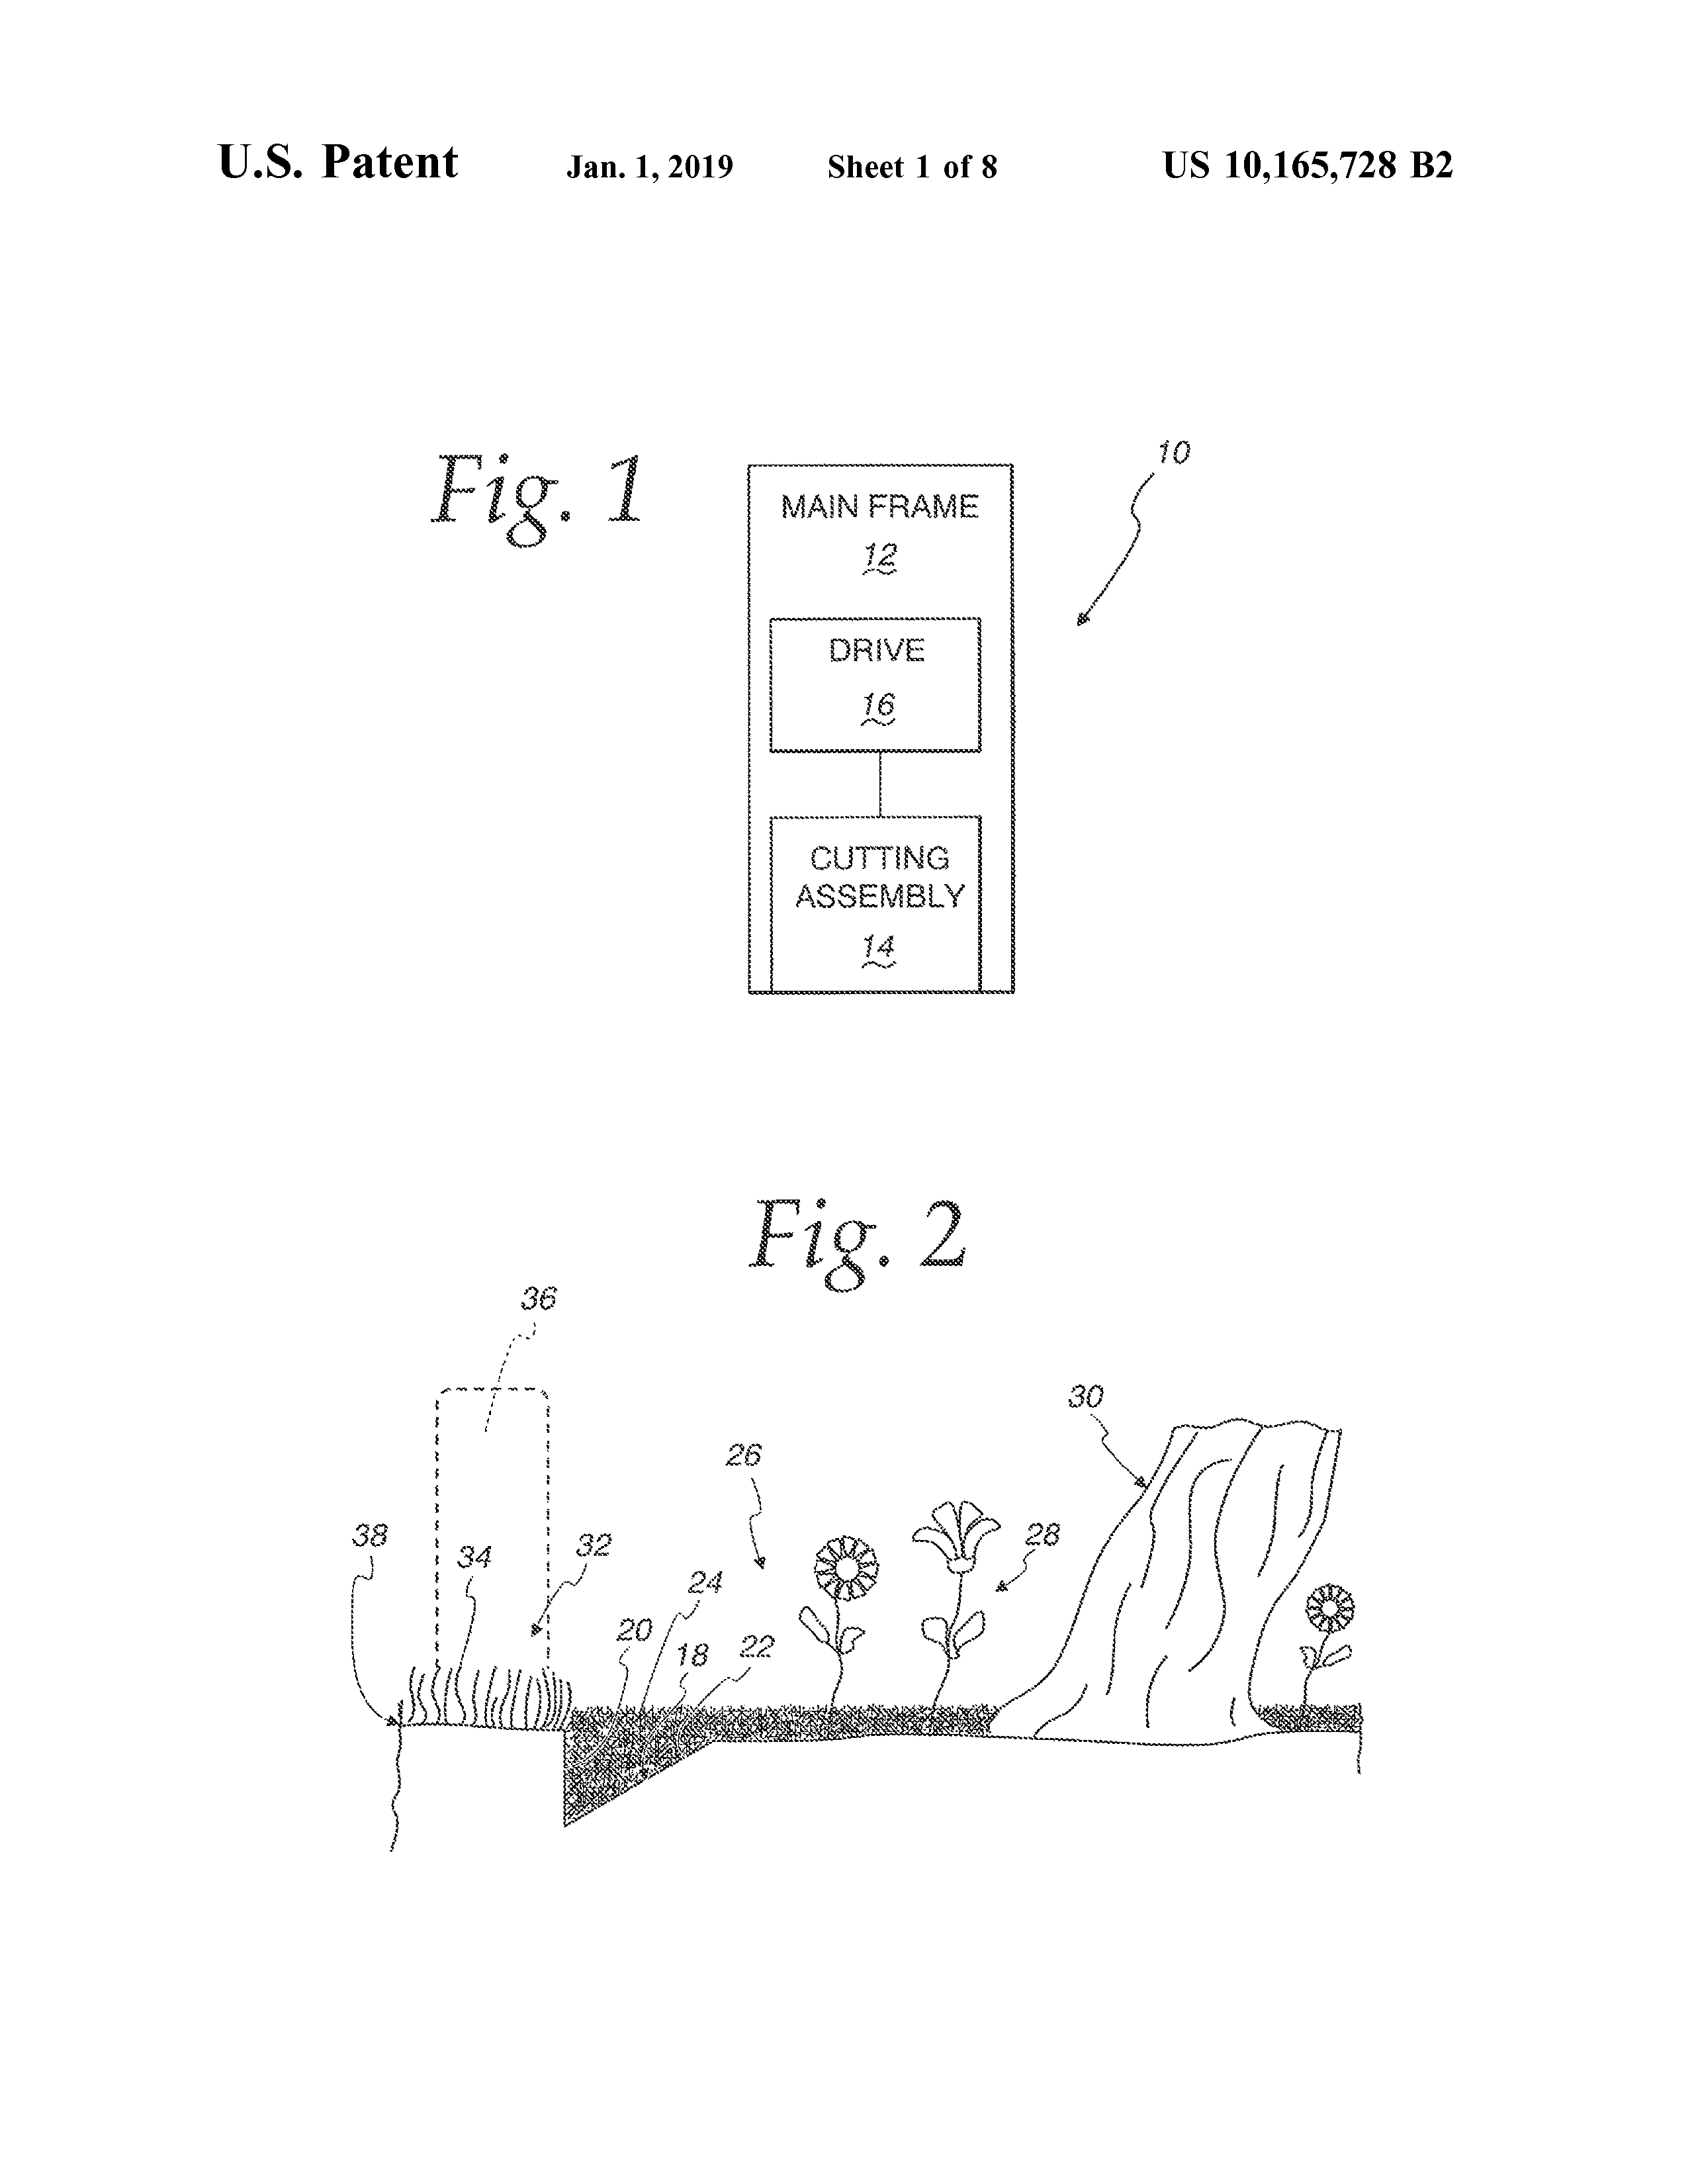patent image: (304, 1113, 1466, 1922), (365, 279, 1268, 1059)
